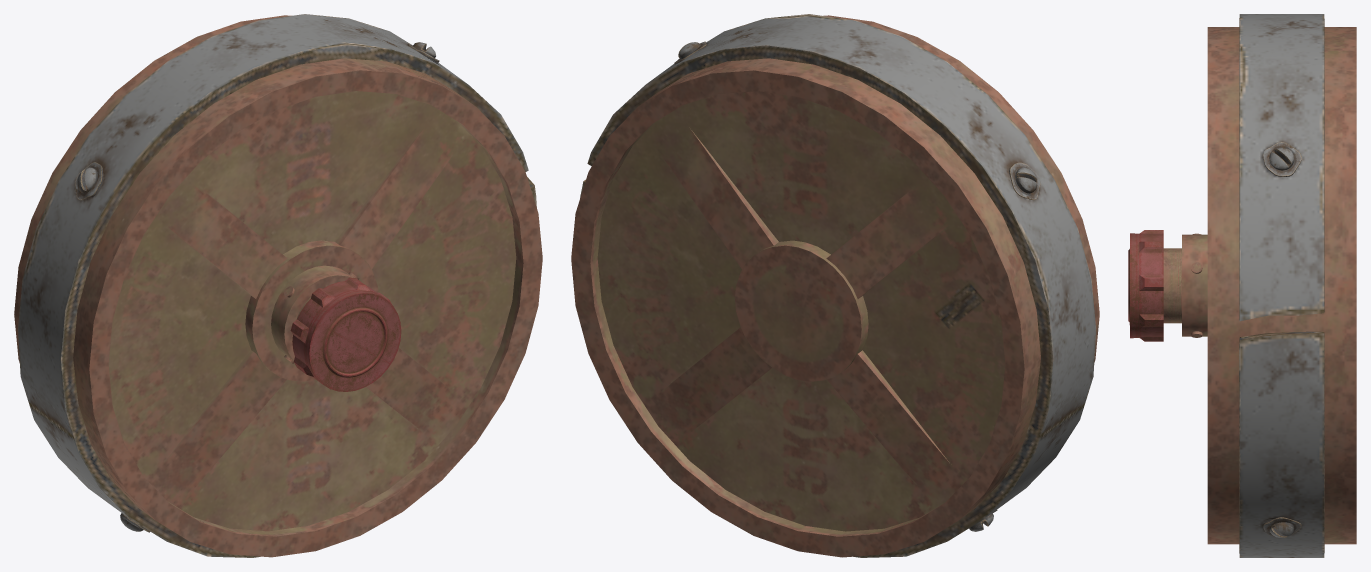
The model's file is Landmine.obj.
3 renders of one model, left to right at view 1: azimuth 30°, elevation 25°; view 2: azimuth 150°, elevation 25°; view 3: azimuth 270°, elevation 25°, orthographic.
Parts seen in each view (by area): view 1: Body_LOW.001_Material_0; view 2: Body_LOW.001_Material_0; view 3: Body_LOW.001_Material_0.
Part boxes in pixels (x1,y1,x2,y2): Body_LOW.001_Material_0: (14,14,542,557); Body_LOW.001_Material_0: (571,14,1099,557); Body_LOW.001_Material_0: (1128,14,1356,557).
Bounding box in the file's own units: 1.68 × 1.67 × 0.7008.
1 material, 1 textured.
